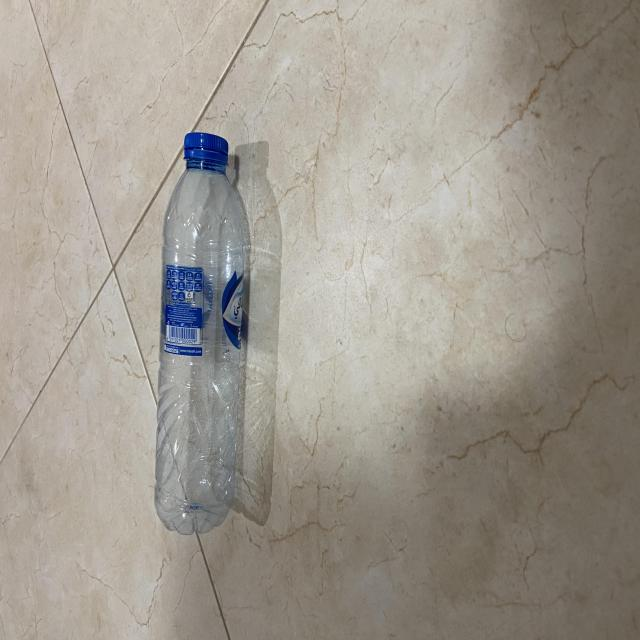plastic: (152, 122, 246, 536)
